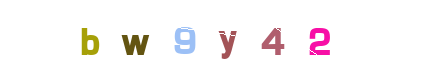2: (279, 0, 359, 80)
4: (204, 0, 284, 80)
9: (147, 0, 227, 80)
B: (49, 0, 129, 80)
W: (95, 0, 175, 80)
Y: (175, 0, 255, 80)
